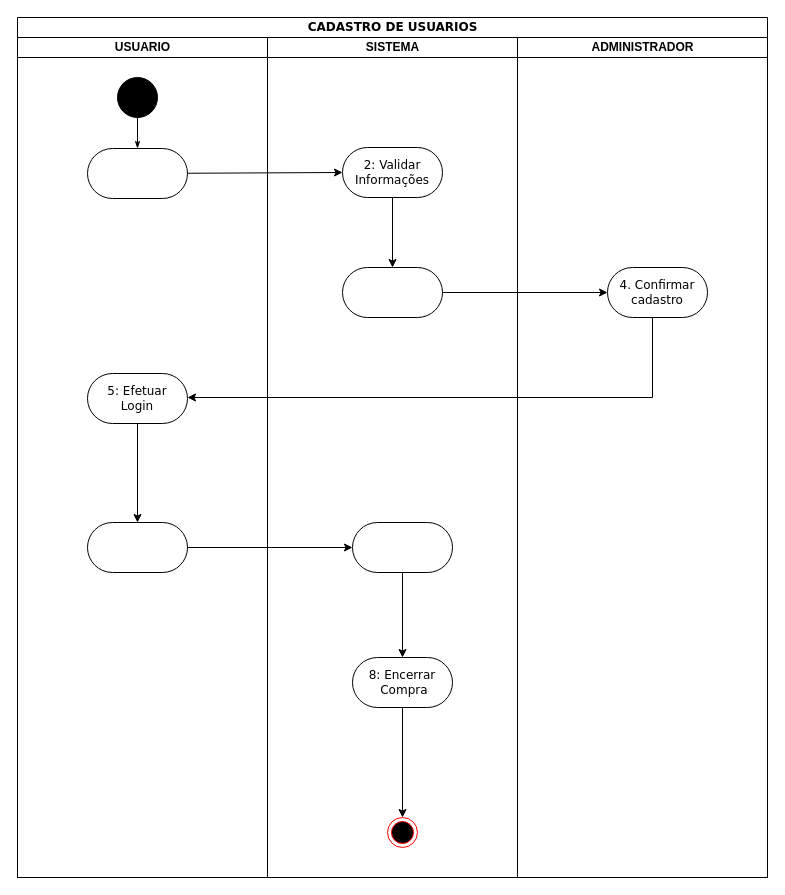
Image size: 785x895. Some labels were removed from this diagram. Each missing label, with the box of its shape:
1: Preencher formulario: (86, 148, 188, 198)
3: Inserir ao banco de dados: (342, 266, 442, 318)
6: Entregar Produto: (86, 522, 188, 572)
7: Receber produto: (352, 522, 452, 572)
